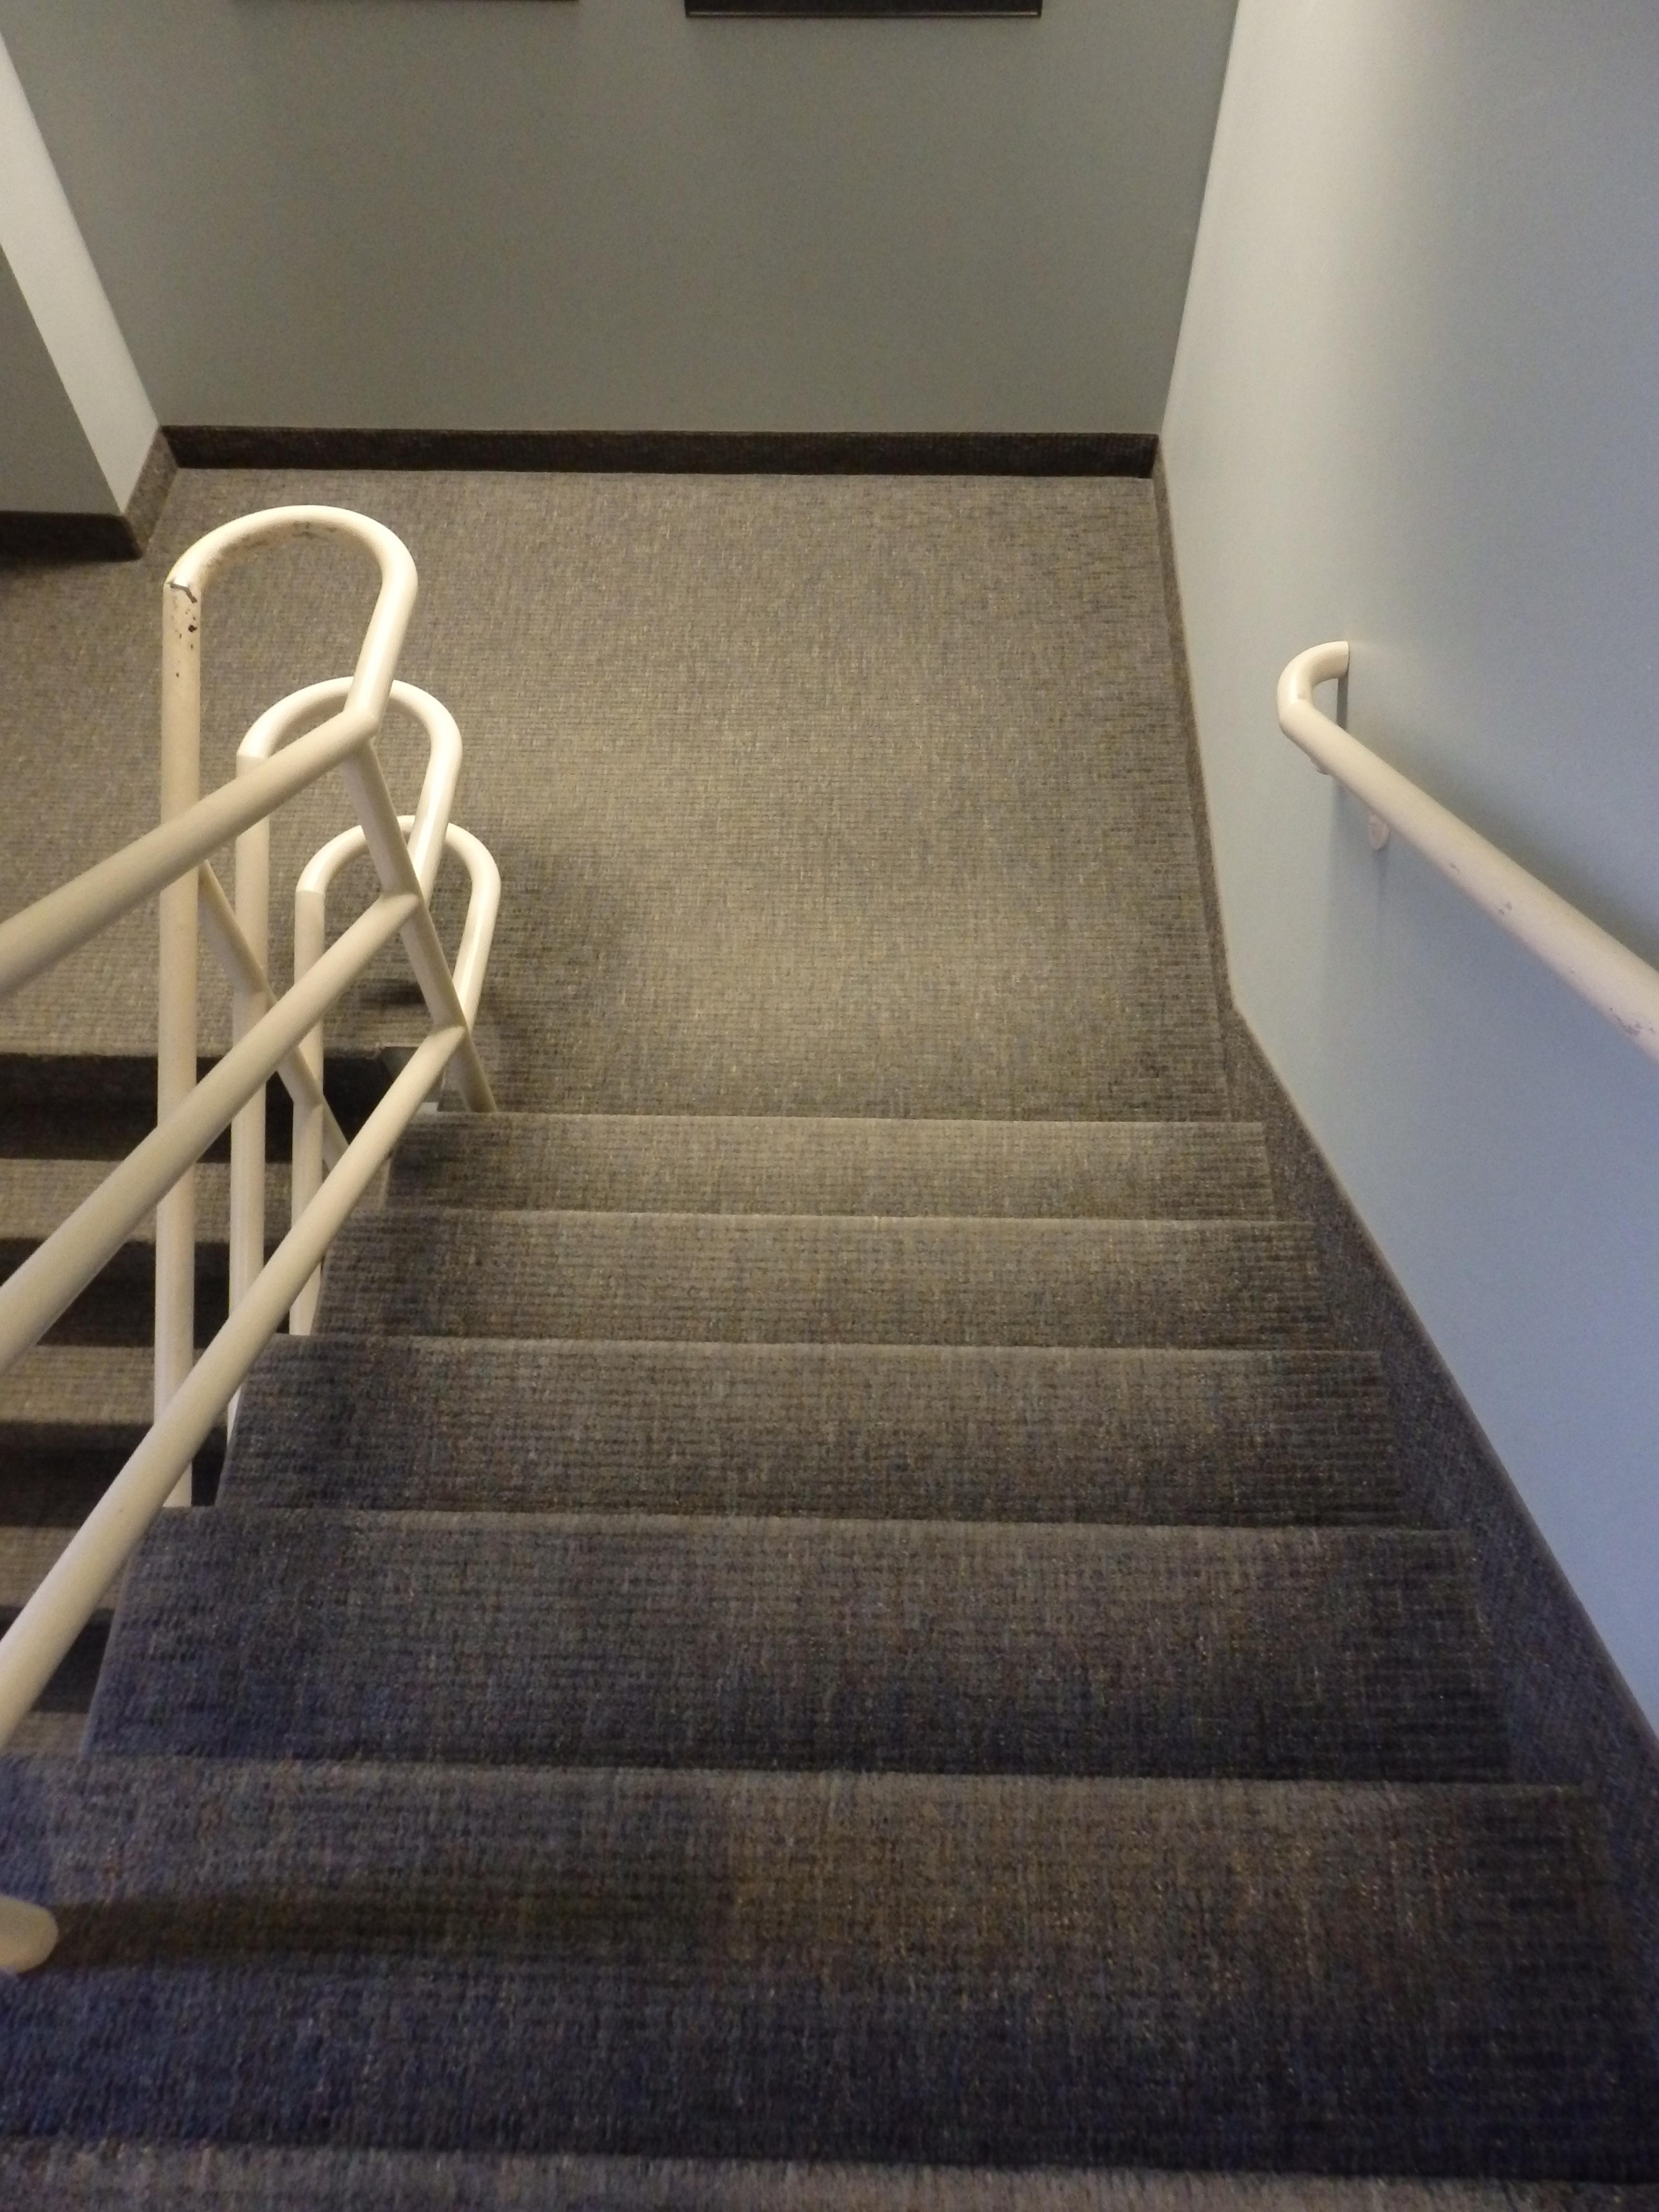stairs_down: (357, 1052, 1351, 2209)
